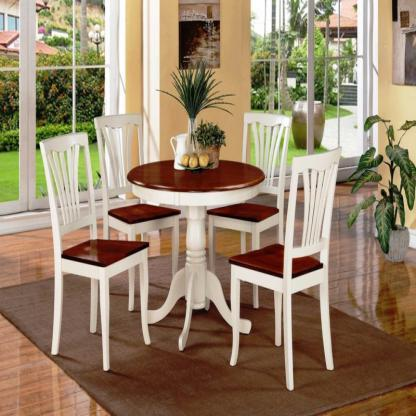chair: (235, 149, 369, 395), (29, 129, 152, 367), (212, 94, 302, 267), (96, 107, 180, 247)
door: (35, 4, 112, 194), (248, 0, 316, 164), (314, 0, 372, 153)
table: (124, 162, 266, 351)
